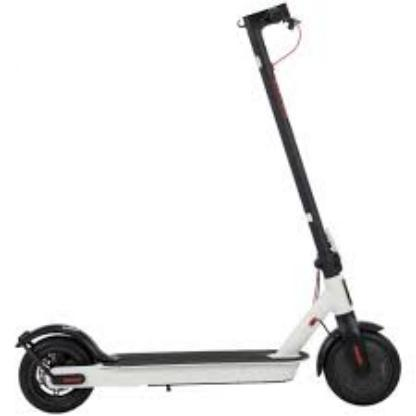bike: (5, 2, 401, 409)
